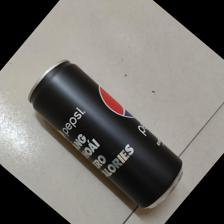Pepsi: (29, 58, 186, 211)
